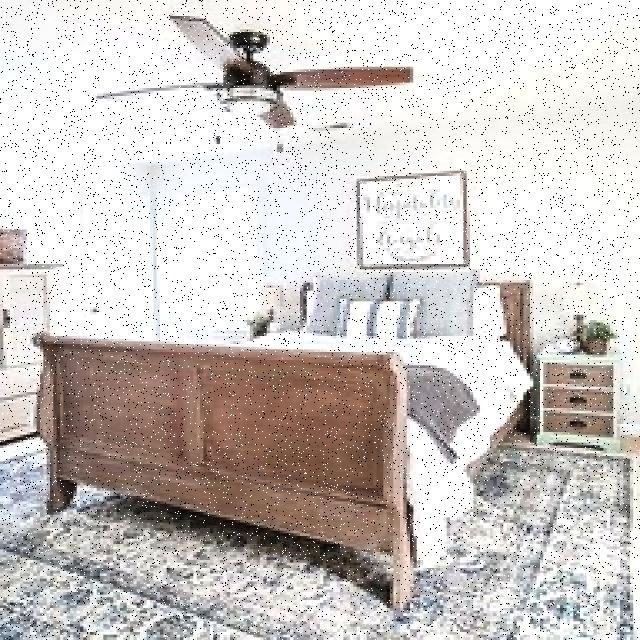bed: (44, 272, 540, 538)
